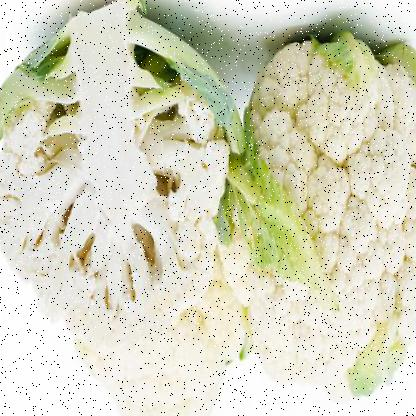cauliflower: (1, 5, 228, 386), (228, 24, 415, 408)
